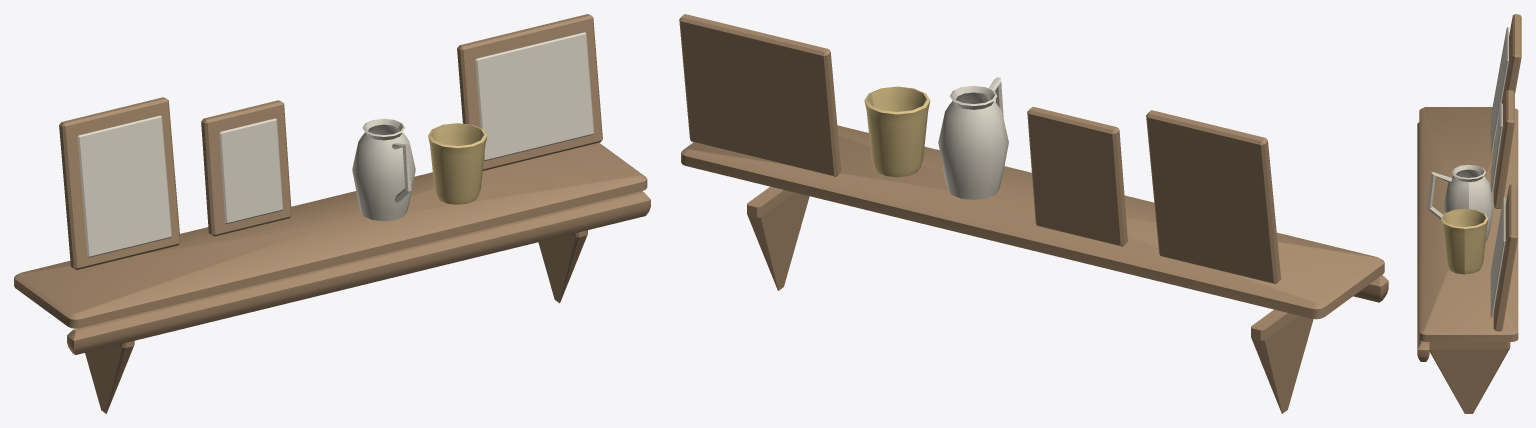
The model's file is bar-pub-and-brewery-taproom-wall-shelf-bric-a-brac-ce35e5cc__18413.glb.
The picture shows the model from 3 angles, left to right: view 1: azimuth 30°, elevation 25°; view 2: azimuth 150°, elevation 25°; view 3: azimuth 270°, elevation 25°; orthographic projection. The views are drawn at different scales.
Visible parts, largest first — view 1: wall-shelf-bric-a-brac; view 2: wall-shelf-bric-a-brac; view 3: wall-shelf-bric-a-brac.
Part boxes in pixels (<box>): wall-shelf-bric-a-brac: <box>14,14,650,413</box>; wall-shelf-bric-a-brac: <box>679,14,1388,413</box>; wall-shelf-bric-a-brac: <box>1417,14,1521,413</box>.
Size of the model in its own units: 1.3 by 0.5812 by 0.2528.
